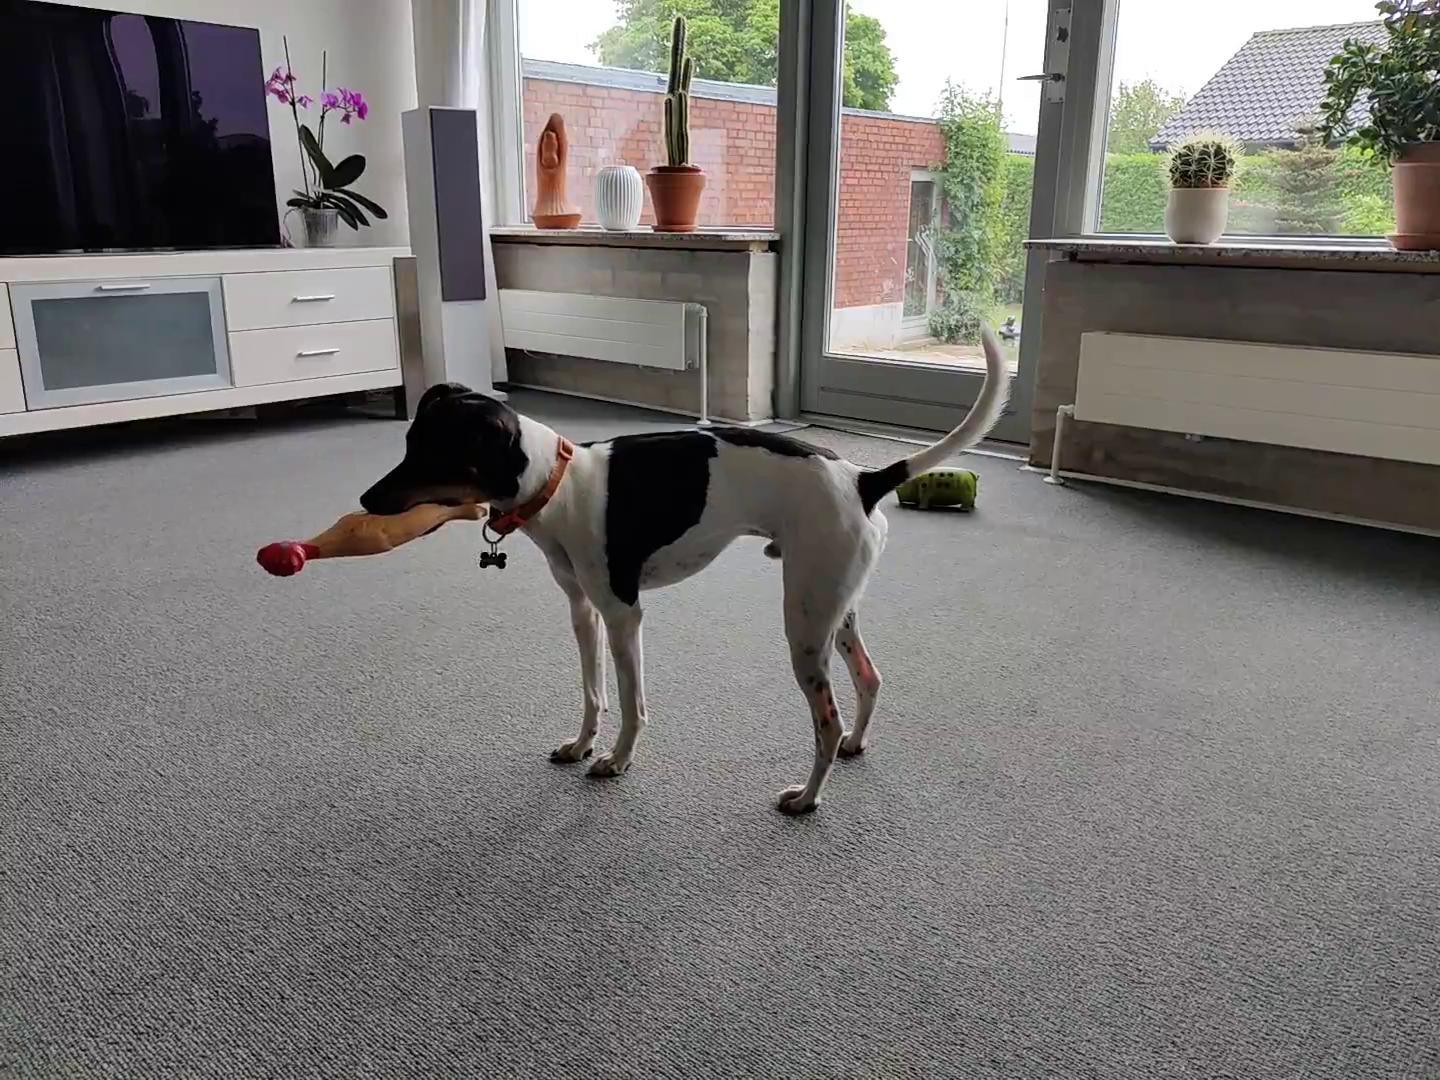Dog: (354, 314, 1014, 815)
